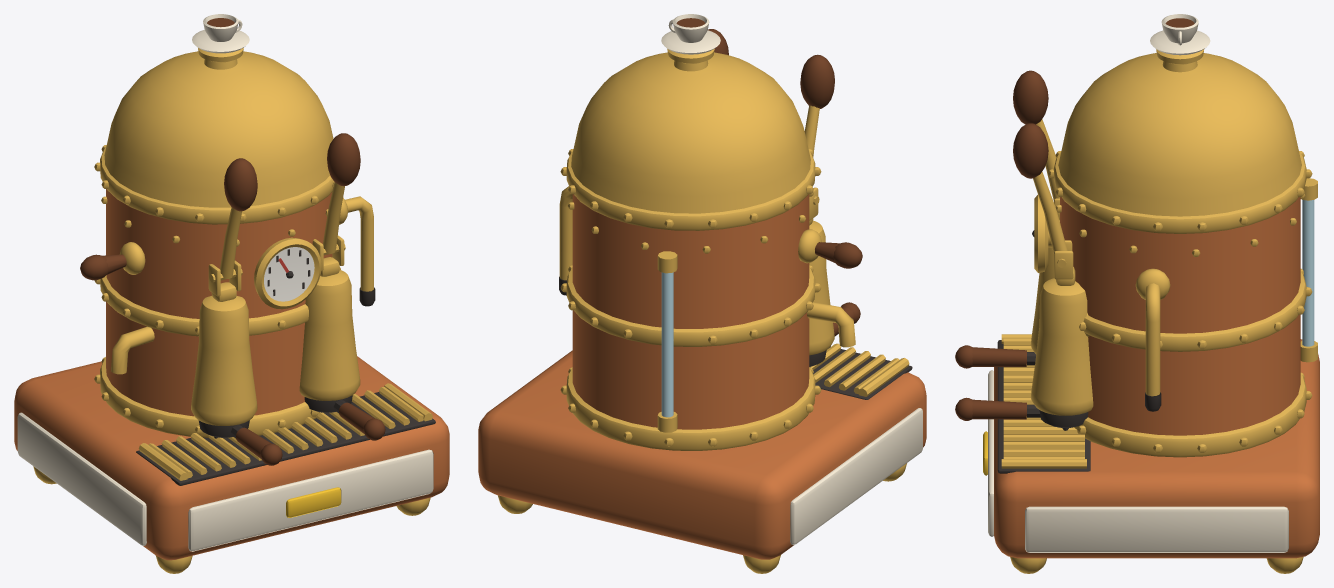
Rendered from lever_machine.gltf.
The picture shows the model from 3 angles, left to right: view 1: azimuth 30°, elevation 25°; view 2: azimuth 150°, elevation 25°; view 3: azimuth 270°, elevation 25°; orthographic projection. The views are drawn at different scales.
Visible parts, largest first — view 1: lever_machine; view 2: lever_machine; view 3: lever_machine.
Boxes of the visible parts, x1=… form: lever_machine: x1=14, y1=14, x2=449, y2=573; lever_machine: x1=478, y1=14, x2=926, y2=573; lever_machine: x1=955, y1=14, x2=1319, y2=573.
Size of the model in its own units: 0.95 by 1.39 by 0.94.
